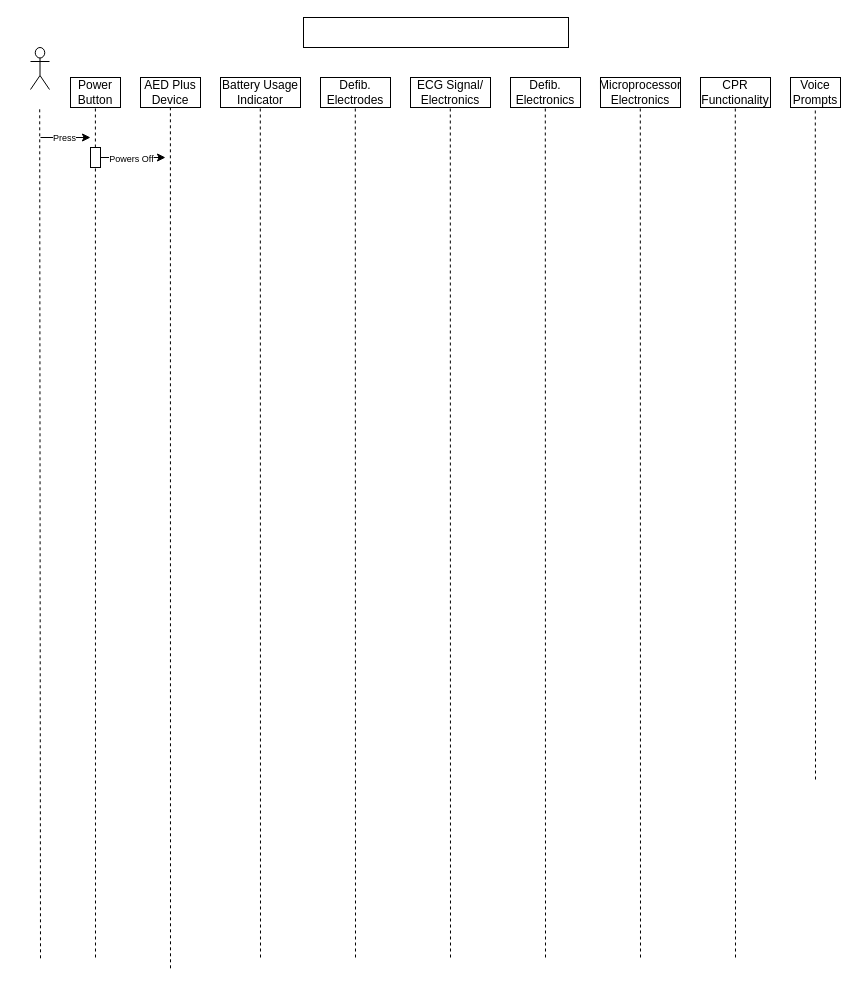
The diagram is 858 pixels wide and 987 high, and some of its shapes have lost their labels. The shapes that lost their labels are listed below. From the top down, each one's centre as x and y in pixels, then its label:
[435,32]: SEQUENCE DIAGRAM 1-2
[40,68]: Rescuer
